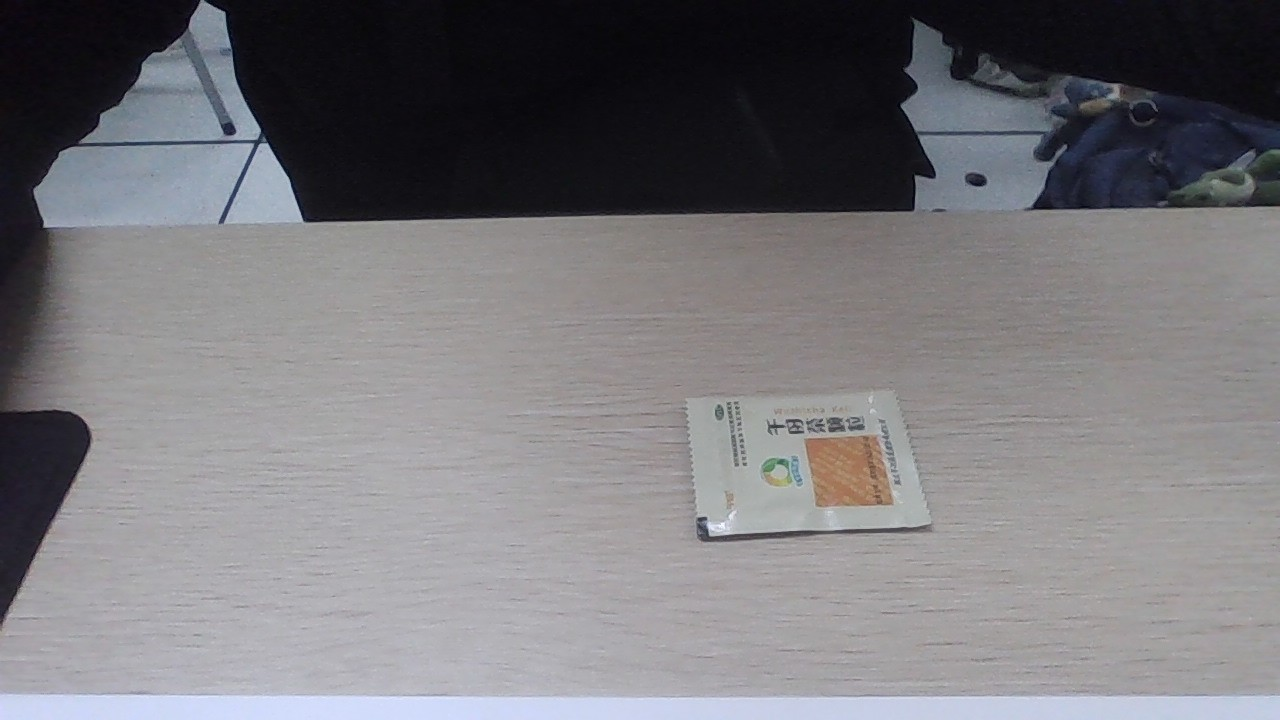YH-yellow medicine: (677, 393, 926, 537)
